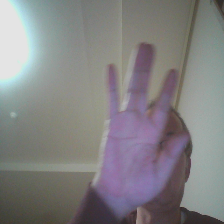hand: (98, 37, 191, 215)
